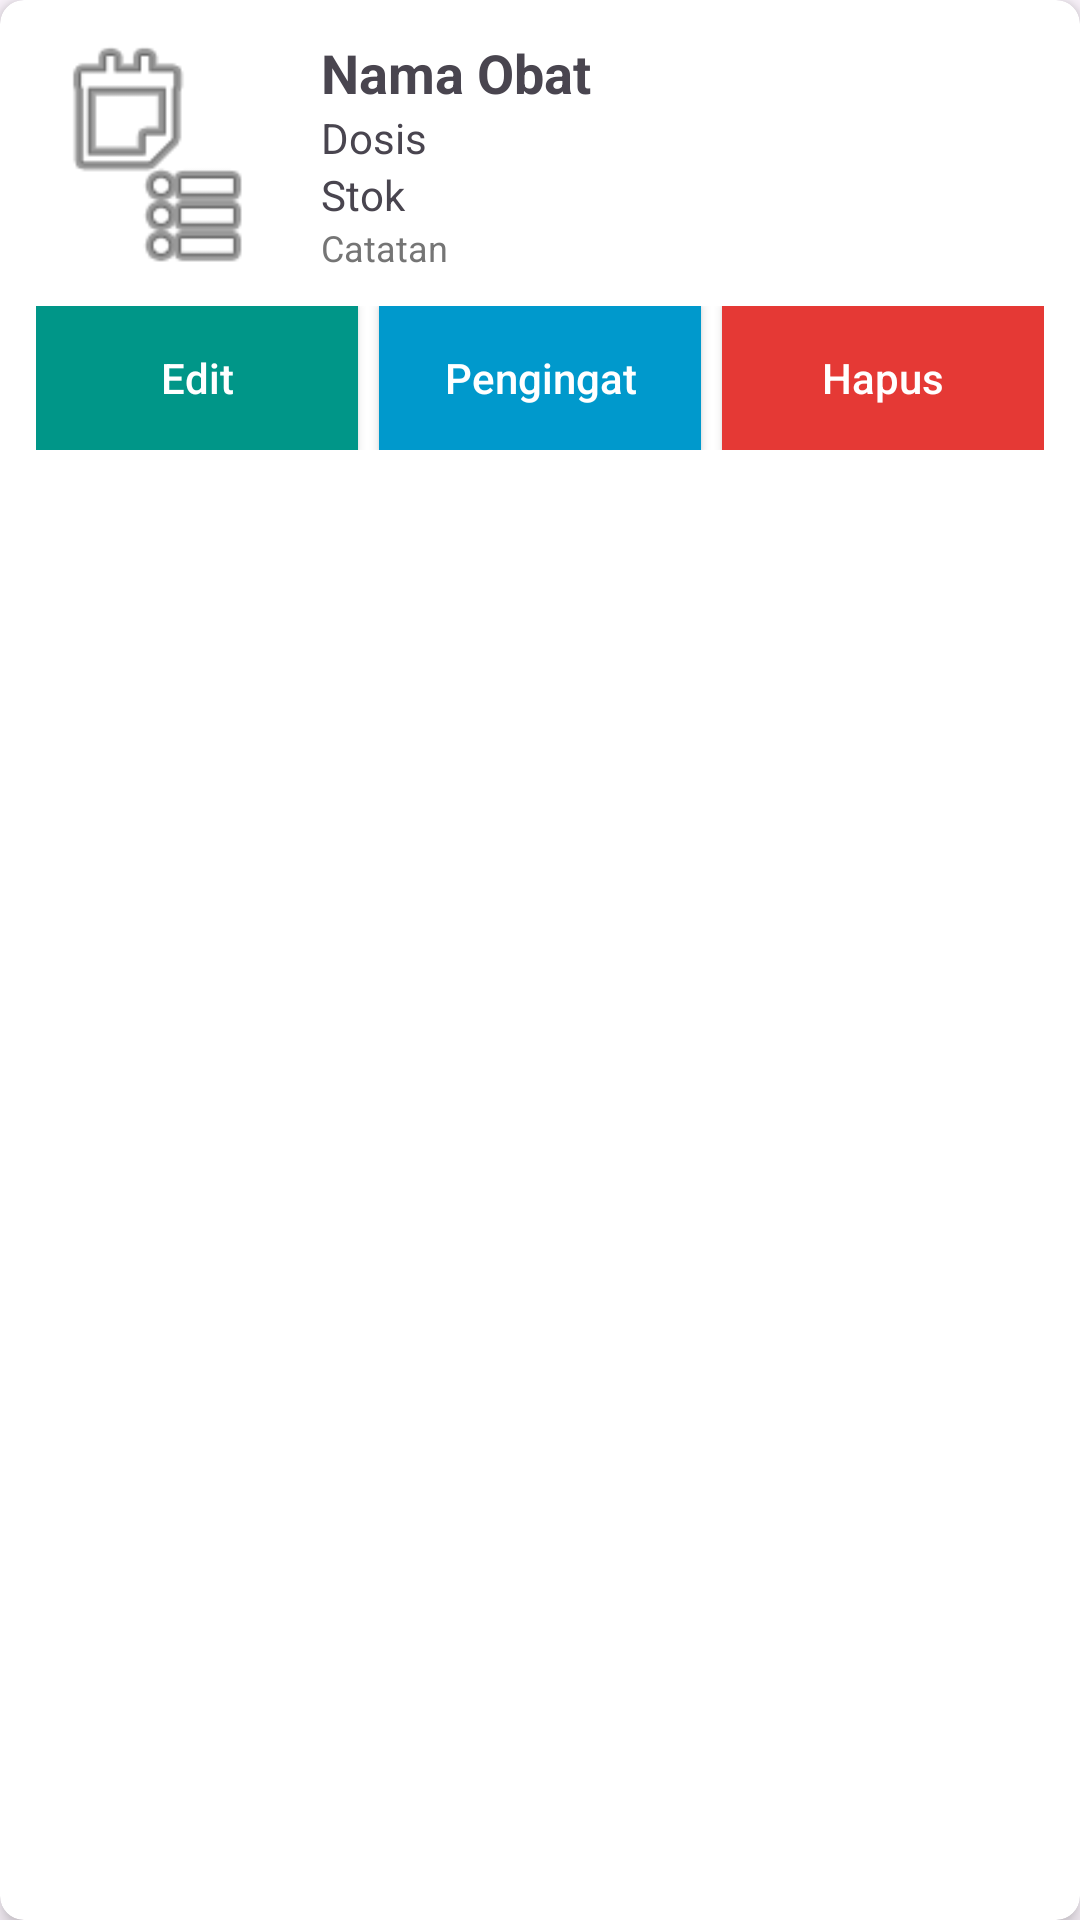

Point at icon controls on the screen. Image size 1080px×1920px, points as (x,y).
agenda: (157,155)
